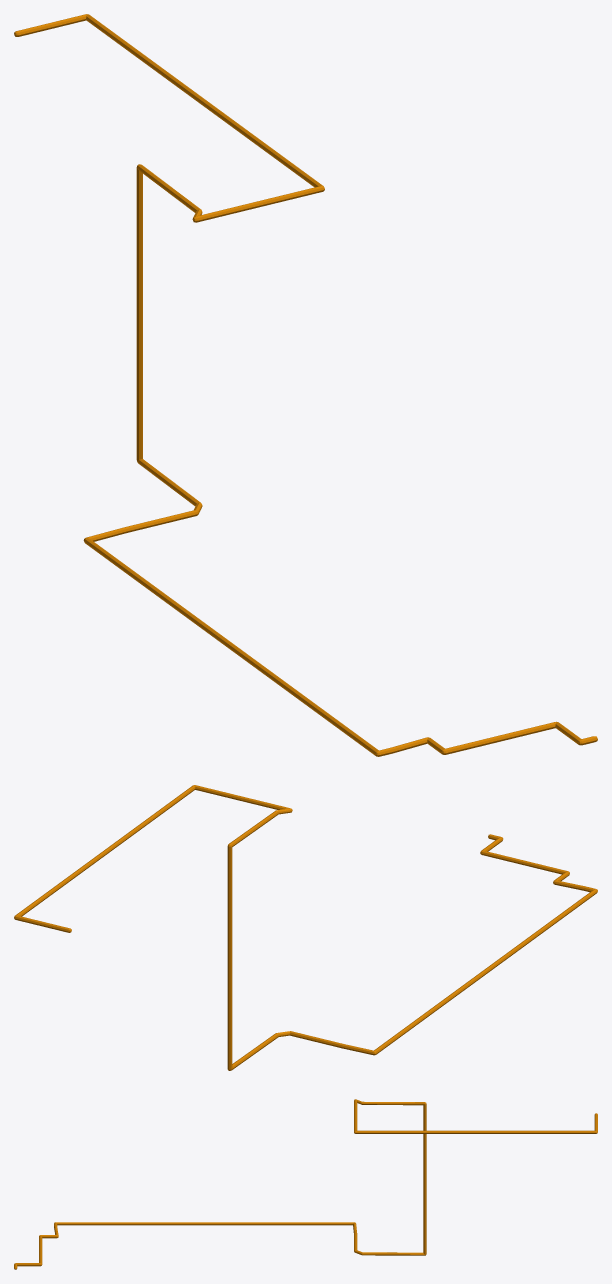
3 renders of one model, top to bottom at view 1: azimuth 30°, elevation 25°; view 2: azimuth 150°, elevation 25°; view 3: azimuth 270°, elevation 25°, orthographic. The views are drawn at different scales.
Size of the model in its own units: 862 by 1020 by 3517.
